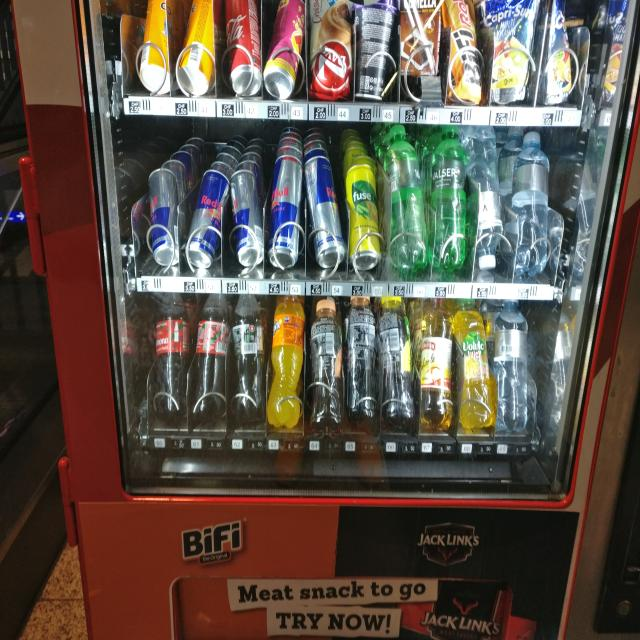7days_croissantschoko_packung_80_1_0000000000003: (315, 0, 360, 96)
bifi_roll__50__4251097402635: (442, 0, 486, 99)
c-swiss_dosenabisicetea__33__9120025930135: (171, 0, 213, 93), (136, 0, 168, 95)
caferoyal_classicmacchiato__33__7617014164487: (354, 0, 399, 103)
caprisun_multivitamin__20__4000177605004: (487, 0, 535, 107), (537, 0, 575, 107)
coke__dose_33__54491472: (219, 0, 260, 99)
coke__flasche_50__54491472: (192, 292, 228, 416), (154, 293, 190, 414)
coke_zero_flasche_50__5449000131836: (228, 293, 268, 421)
comella_schokodrink__33__7613100037253: (397, 0, 440, 108)
fanta___50__40822938: (267, 291, 304, 427)
fuse_lemon__50__5449000235947: (380, 294, 420, 428)
fuse_lemon_dose_33__5449000235947: (347, 164, 382, 271)
fuse_peach__50__5449000236623: (307, 298, 344, 429), (348, 292, 382, 428)
ramseier_schorle__50__7610057012456: (420, 294, 457, 431)
redbull___33__90162909: (306, 154, 349, 262), (188, 170, 231, 274), (271, 155, 304, 267), (147, 168, 182, 270), (230, 171, 266, 269)
tiki_himbeerbrause_dose_33_1_: (266, 2, 308, 97)
valser_classic__50__76404160: (384, 120, 431, 268), (432, 122, 468, 268)
valser_still__50__7610335002575: (513, 133, 551, 280), (465, 124, 505, 250), (497, 300, 530, 434)
volvic_pinapple__50__305764335648: (456, 295, 496, 427)
